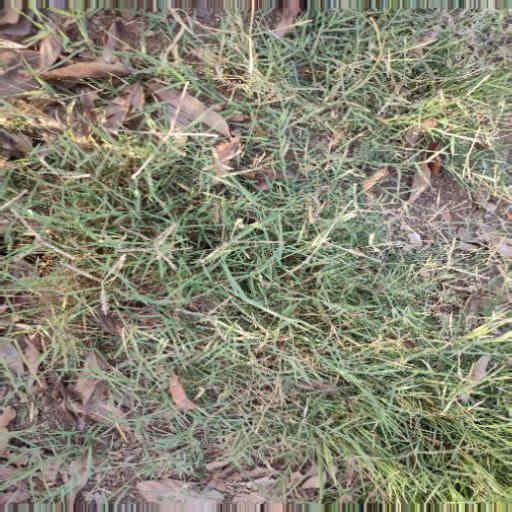weed: (14, 36, 491, 480)
